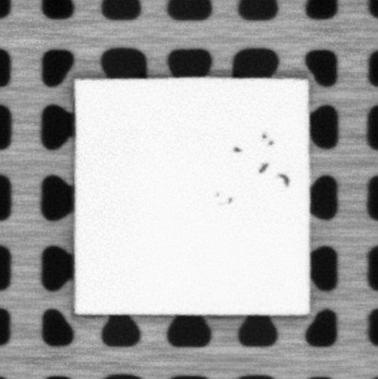DIE_INK: (275, 172, 290, 187), (256, 162, 272, 173), (225, 195, 236, 204), (266, 137, 275, 147), (232, 144, 240, 154), (260, 131, 268, 138)
